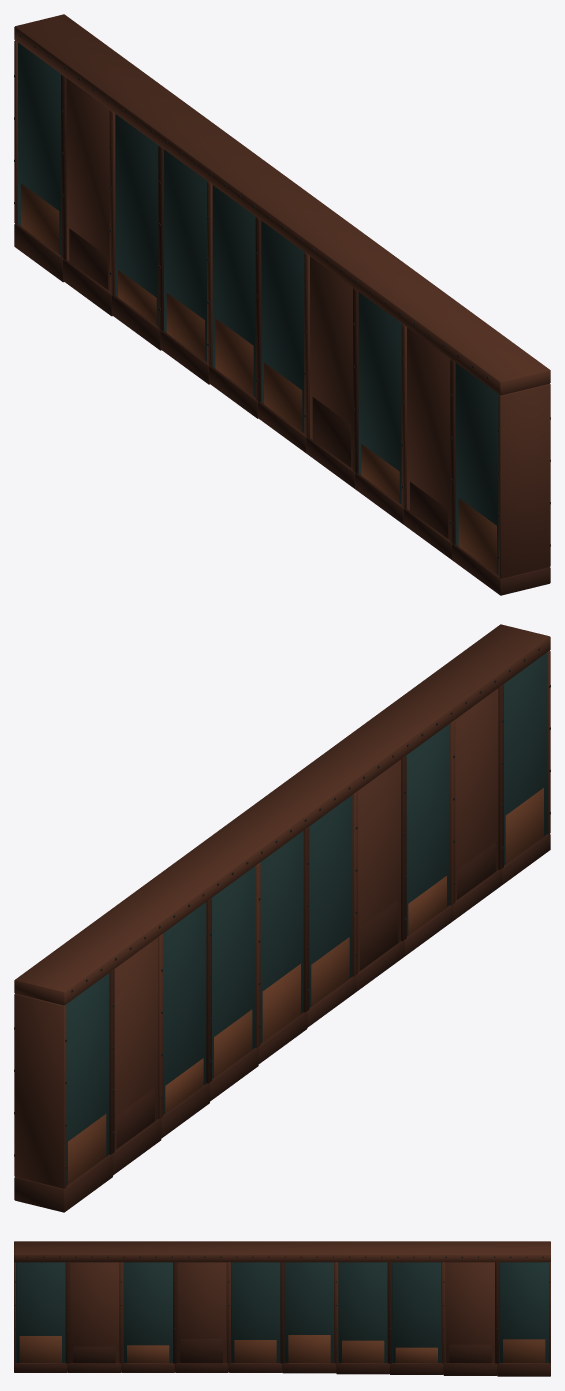
File: isle_keel_rib.glb
The picture shows the model from 3 angles, top to bottom: view 1: azimuth 30°, elevation 25°; view 2: azimuth 150°, elevation 25°; view 3: azimuth 270°, elevation 25°; orthographic projection. The views are drawn at different scales.
Parts seen in each view (by area): view 1: isle_keel_rib; view 2: isle_keel_rib; view 3: isle_keel_rib.
Part boxes in pixels (x1,y1,x2,y2): isle_keel_rib: (14, 14, 550, 595); isle_keel_rib: (14, 624, 550, 1212); isle_keel_rib: (14, 1241, 550, 1376).
Bounding box in the file's own units: 3.08 × 12.54 × 50.
